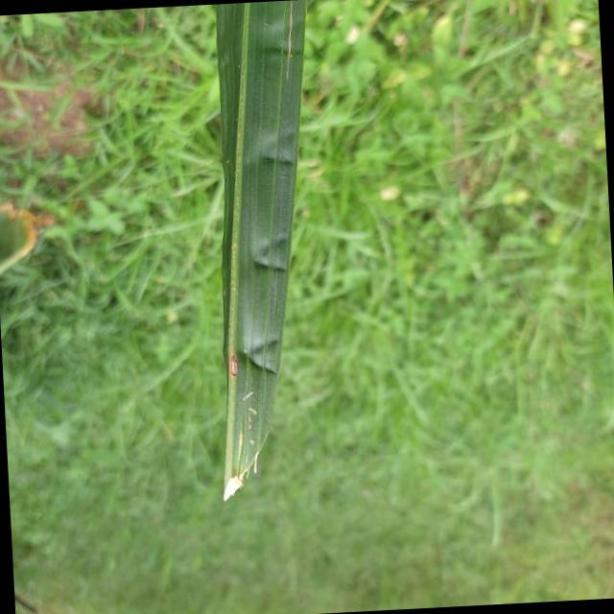Boron: (207, 0, 315, 500)
